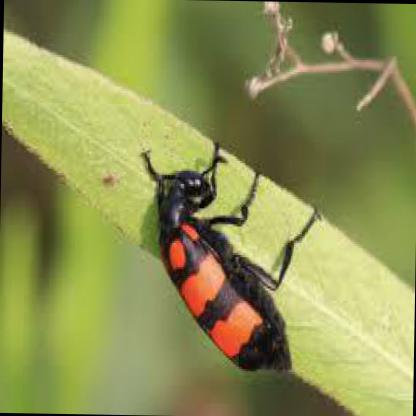blister beetle: (148, 142, 317, 371)
